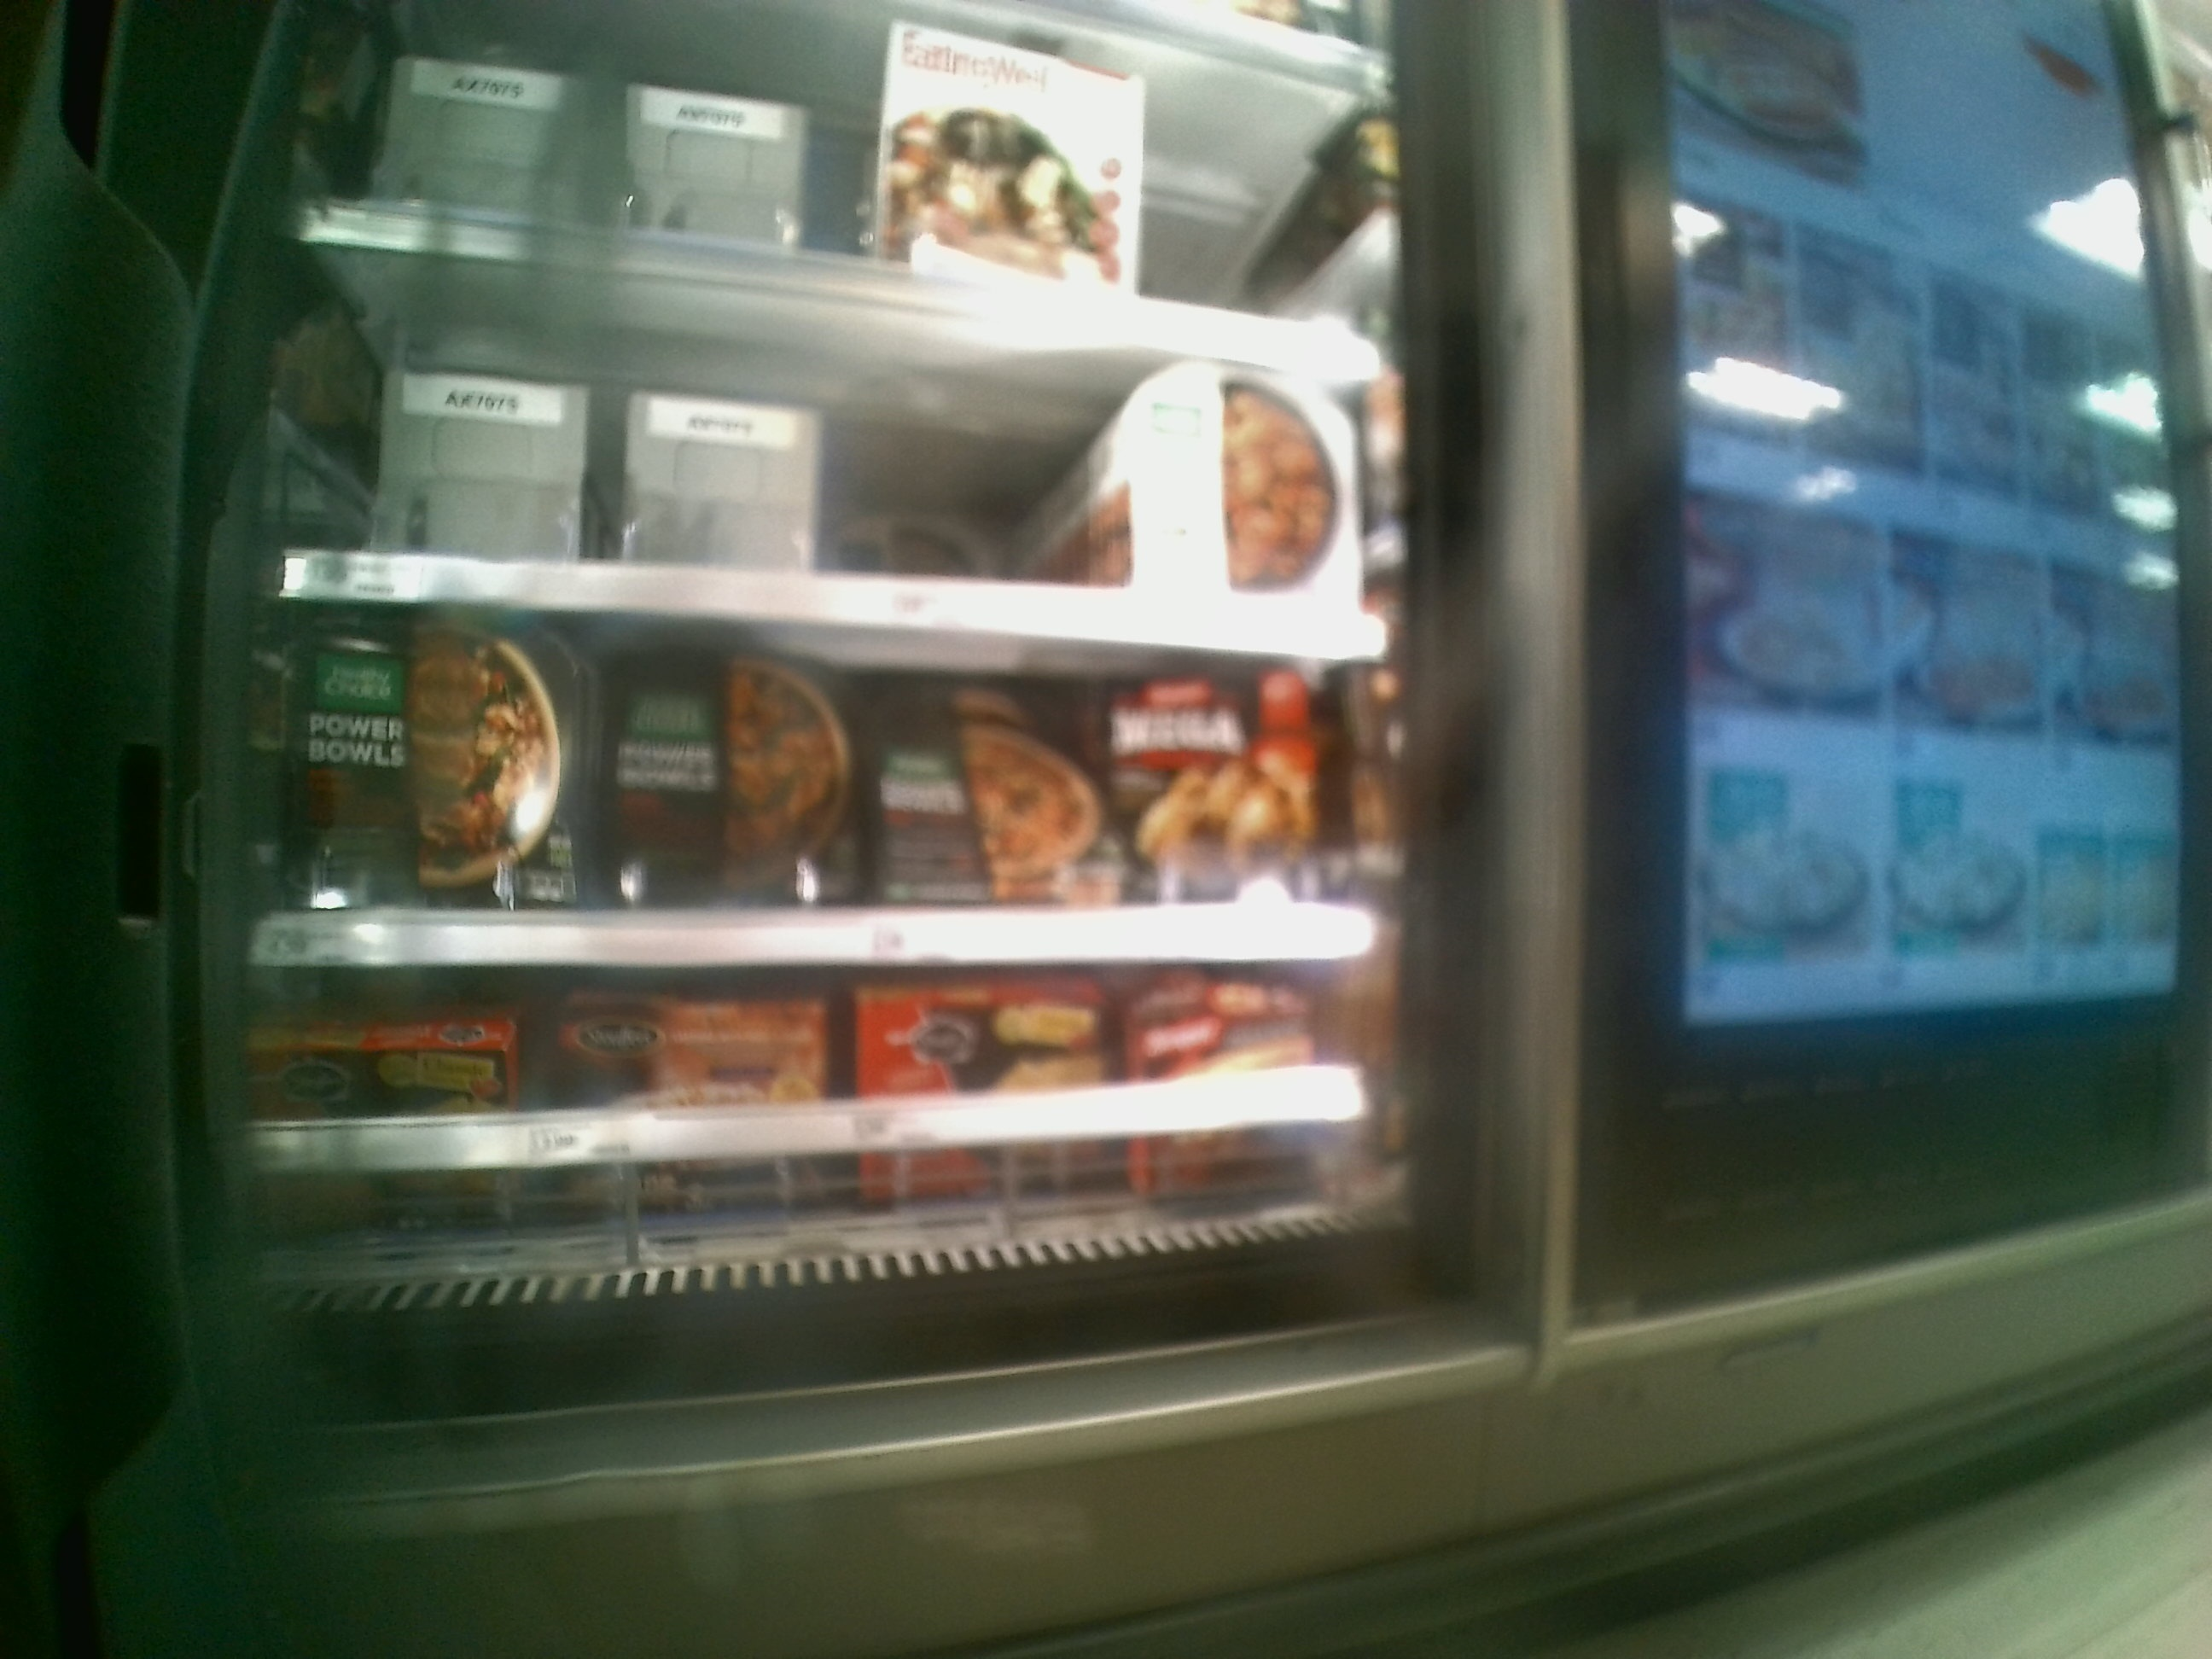Shelf: (244, 955, 1393, 1321), (251, 596, 1395, 958)
